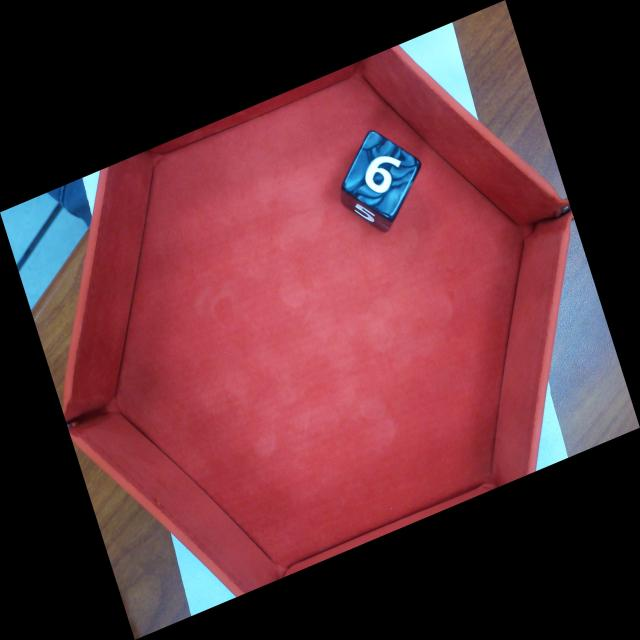dice: (337, 125, 424, 223)
